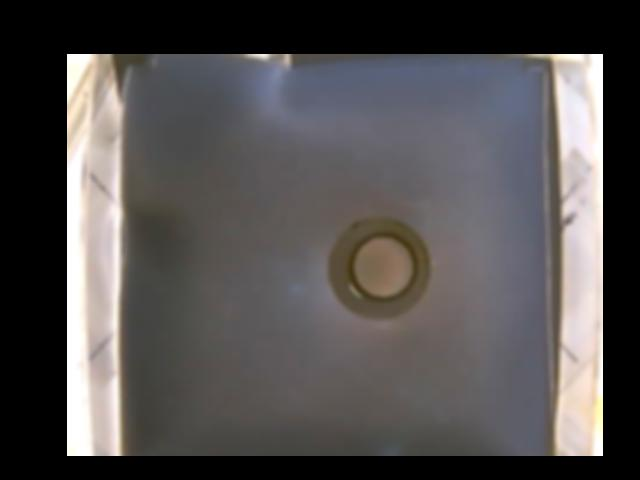Bottle: (326, 218, 433, 320)
